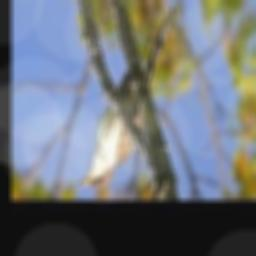Cuckoo: (76, 8, 173, 188)
